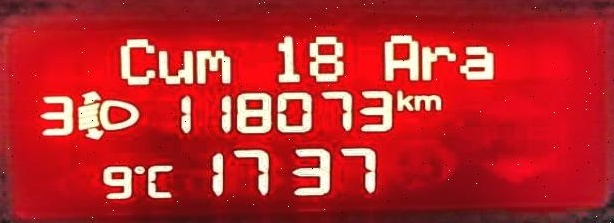0: (273, 88, 313, 135)
1: (272, 31, 303, 84), (204, 147, 227, 197), (172, 92, 197, 135), (212, 90, 234, 135)
3: (284, 144, 331, 199), (34, 91, 74, 137), (355, 87, 393, 133)
7: (336, 142, 376, 197), (231, 146, 272, 195), (314, 88, 353, 132)
8: (306, 31, 346, 84), (233, 89, 272, 134)
9: (100, 162, 132, 201)
X: (116, 36, 155, 87), (383, 30, 419, 82), (192, 47, 233, 86), (457, 41, 495, 82), (420, 42, 457, 82), (155, 47, 192, 86), (147, 163, 176, 200), (412, 93, 444, 111), (394, 87, 413, 112)
